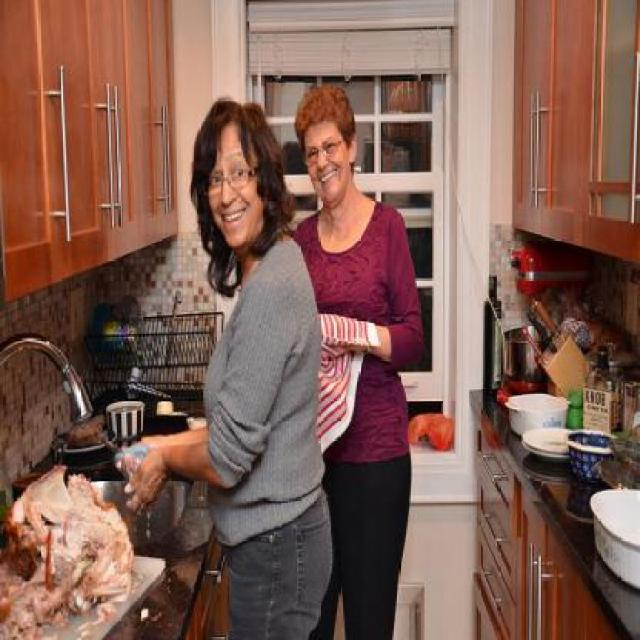Person: (111, 94, 331, 632), (292, 82, 423, 629)
